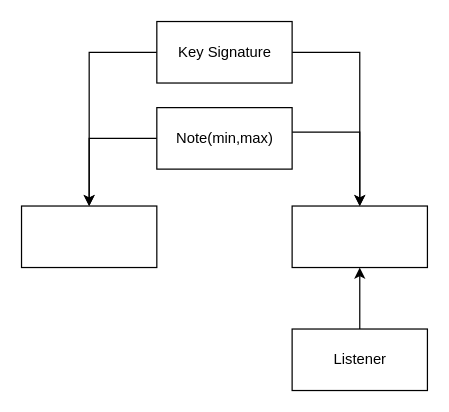
This 449x412 diagram has some shape labels left out. The shapes that lost their labels are listed below. From the top down, each one's centre as x and y in pixels, then its label:
the point at 88,236: notedrawer
the point at 359,236: NoteChecker
